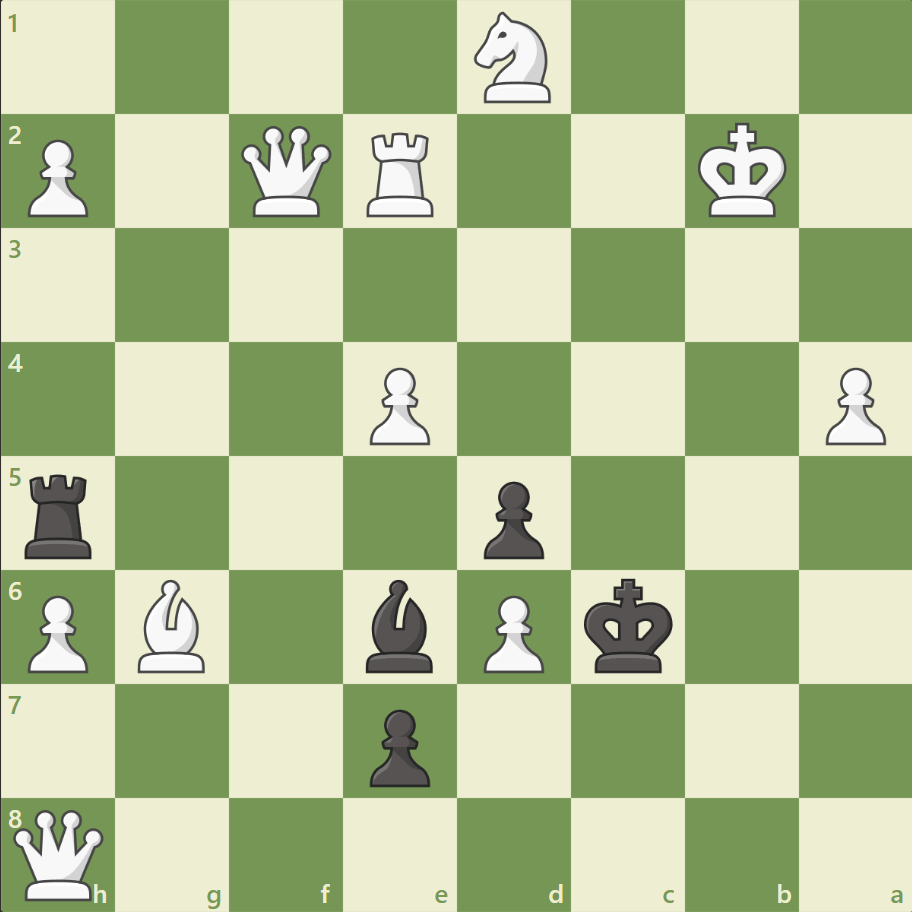B: (131, 574, 215, 676)
K: (692, 117, 792, 225)
N: (465, 7, 562, 110)
P: (474, 586, 549, 677), (20, 586, 95, 677), (20, 132, 95, 223), (815, 359, 889, 450), (361, 359, 435, 450)
Q: (237, 122, 336, 222), (10, 804, 109, 903)
R: (360, 125, 442, 222)
b: (358, 574, 442, 676)
k: (579, 571, 679, 679)
p: (474, 473, 549, 564), (361, 700, 435, 791)
r: (19, 466, 102, 563)
